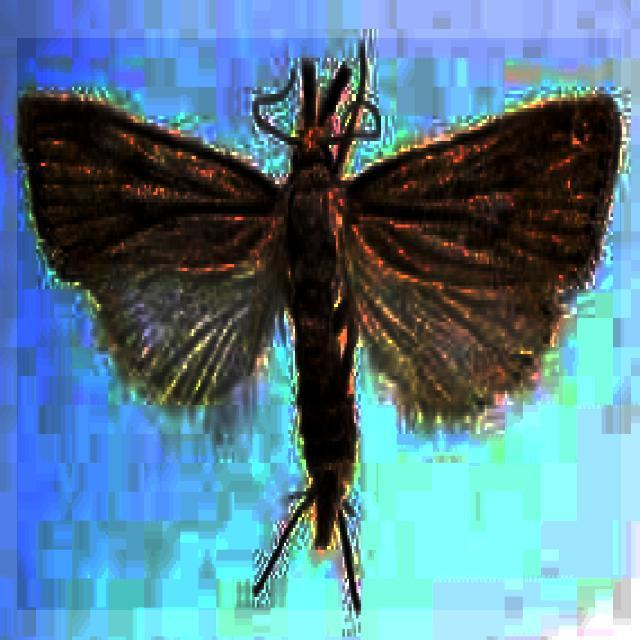stem-borer: (17, 38, 621, 610)
